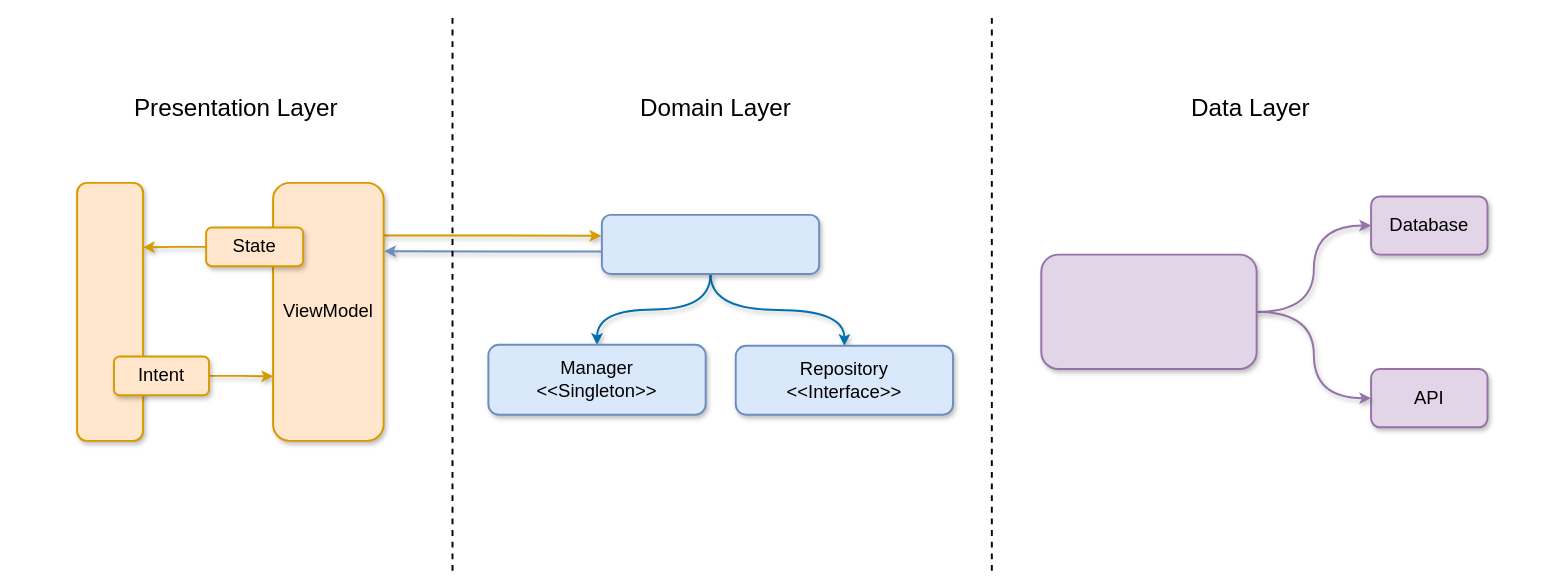
This 1566x588 diagram has some shape labels left out. Here are the shapes that lost their labels. From the top down, the centre of each, then its label:
pixel 711 245: UseCase
pixel 110 313: View
pixel 1149 312: Repository Implementation
